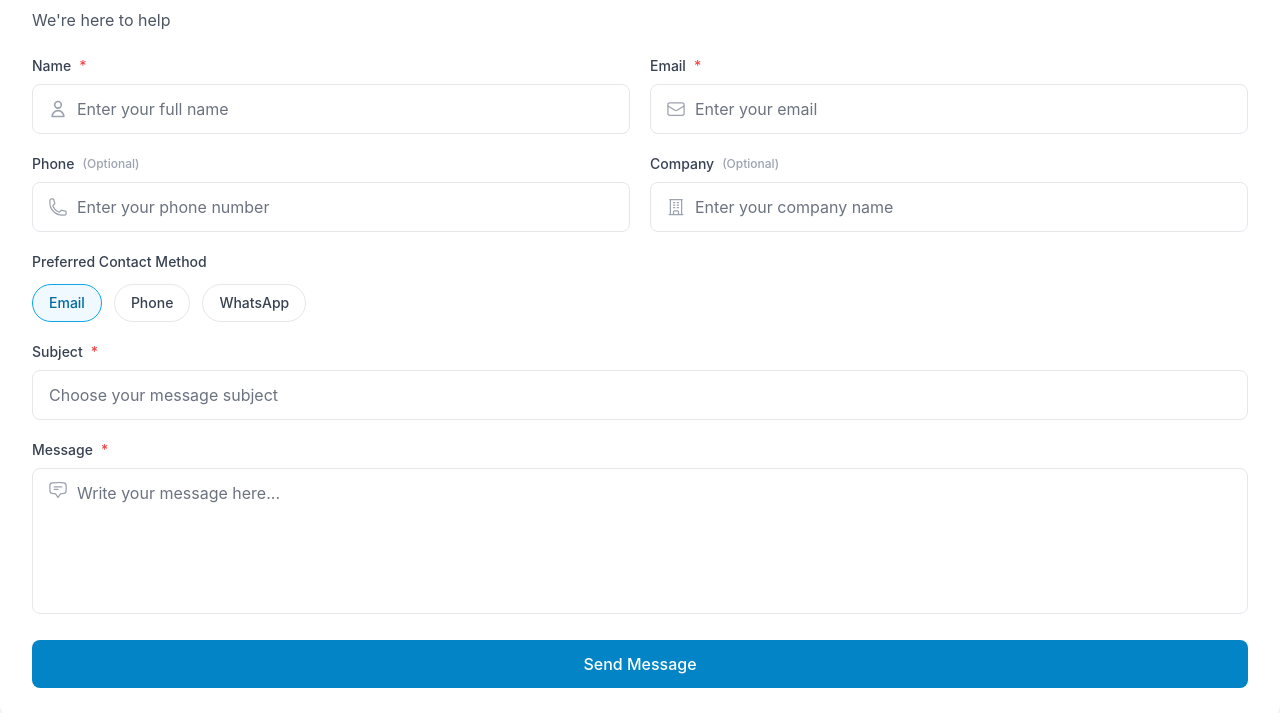
it: ContactForm › Form Validation › should show error when name is empty
(page scrolled)
Click the button "Send Message".
click(640, 664)  # box [32,640,1248,688]
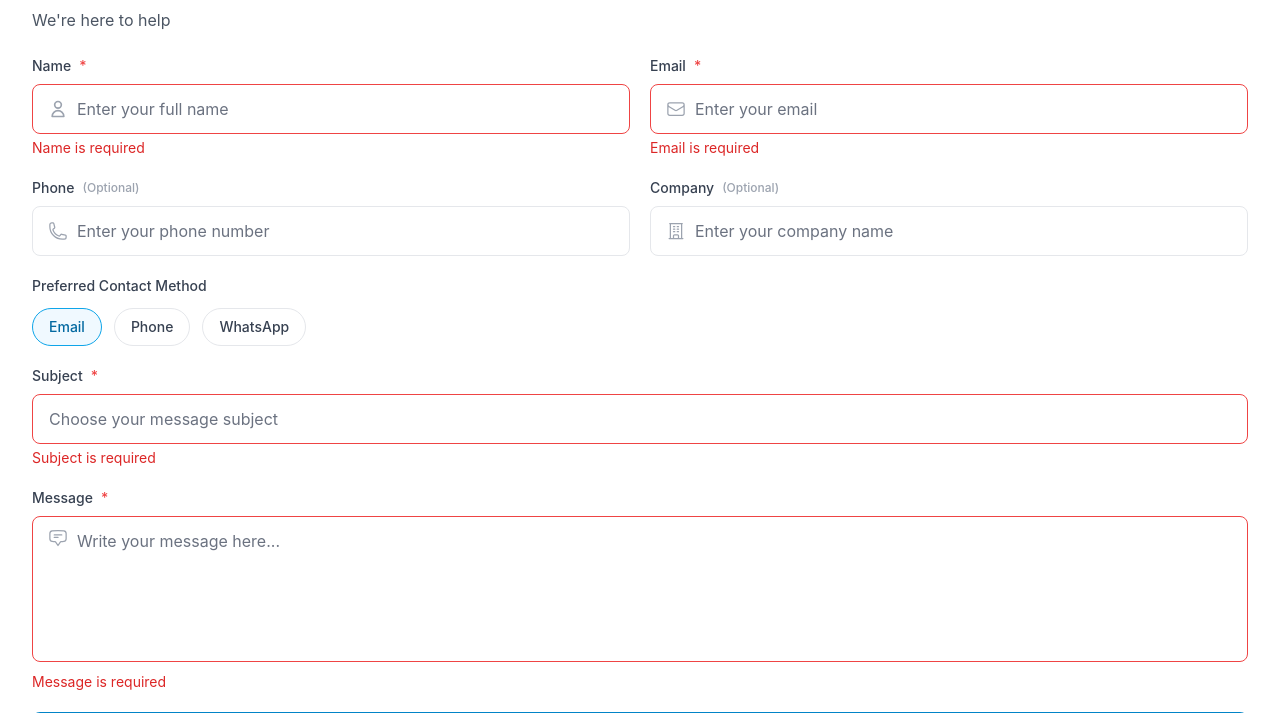
Now the text "Name is required" is shown, box [32,139,145,156]
